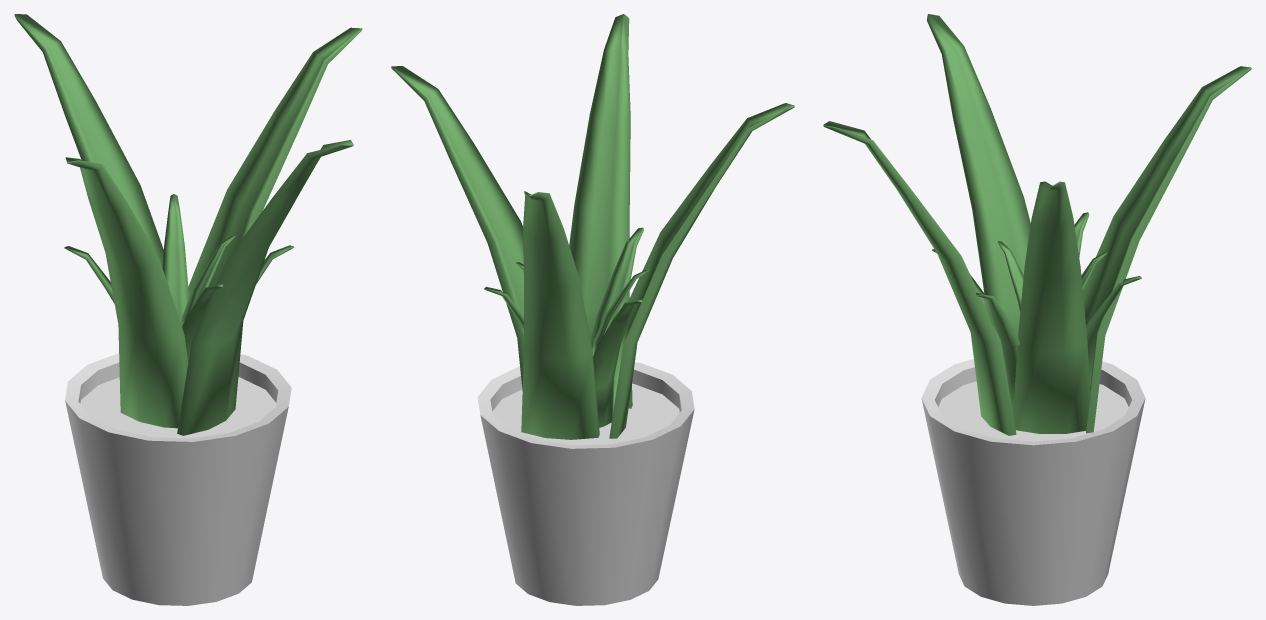
The model's file is Planta.fbx.
The picture shows the model from 3 angles, left to right: view 1: azimuth 30°, elevation 25°; view 2: azimuth 150°, elevation 25°; view 3: azimuth 270°, elevation 25°; orthographic projection. The views are drawn at different scales.
Parts seen in each view (by area): view 1: planta.001, Plane.106, Plane.103, Plane.102, Plane.104, Plane.105, Plane.112, Plane.109, Plane.107; view 2: planta.001, Plane.104, Plane.103, Plane.102, Plane.106, Plane.107, Plane.109, Plane.110; view 3: planta.001, Plane.102, Plane.106, Plane.104, Plane.103, Plane.108, Plane.105, Plane.110.
Boxes of the visible parts, bbox=[...] form: planta.001: bbox=[65, 353, 291, 605]; Plane.106: bbox=[65, 157, 188, 428]; Plane.103: bbox=[177, 140, 353, 435]; Plane.102: bbox=[188, 27, 362, 298]; Plane.104: bbox=[14, 14, 163, 267]; Plane.105: bbox=[162, 194, 188, 322]; Plane.112: bbox=[181, 235, 235, 325]; Plane.109: bbox=[182, 284, 223, 362]; Plane.107: bbox=[64, 246, 114, 303]; planta.001: bbox=[477, 362, 694, 605]; Plane.104: bbox=[521, 191, 599, 439]; Plane.103: bbox=[569, 14, 632, 408]; Plane.102: bbox=[391, 66, 523, 390]; Plane.106: bbox=[609, 103, 794, 438]; Plane.107: bbox=[593, 299, 642, 427]; Plane.109: bbox=[590, 227, 643, 416]; Plane.110: bbox=[592, 270, 648, 356]; planta.001: bbox=[921, 359, 1145, 605]; Plane.102: bbox=[1013, 181, 1090, 433]; Plane.106: bbox=[927, 14, 1030, 334]; Plane.104: bbox=[1083, 66, 1251, 433]; Plane.103: bbox=[823, 121, 1016, 435]; Plane.108: bbox=[976, 293, 1019, 413]; Plane.105: bbox=[1086, 276, 1141, 345]; Plane.110: bbox=[997, 241, 1023, 311].
Size of the model in its own units: 110 by 144 by 116.
